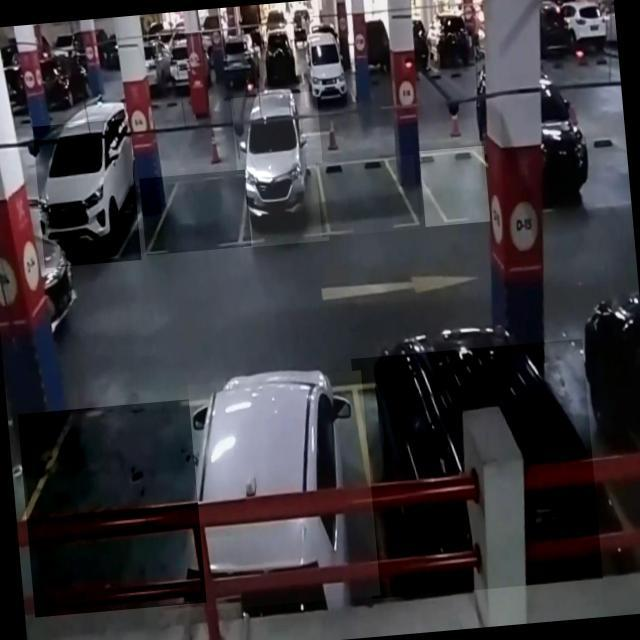empty: (17, 400, 208, 618), (139, 169, 251, 255), (316, 154, 420, 237), (419, 145, 490, 227)
occupied: (350, 338, 602, 598), (187, 370, 380, 610), (32, 118, 141, 268), (230, 90, 329, 248)
